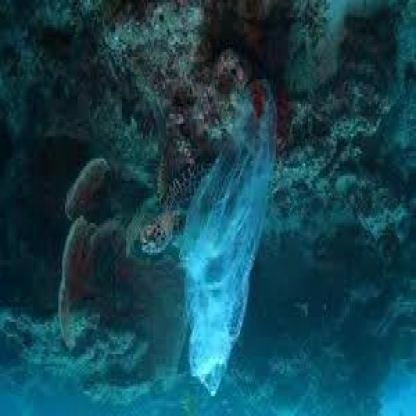pbag: (179, 76, 277, 398)
